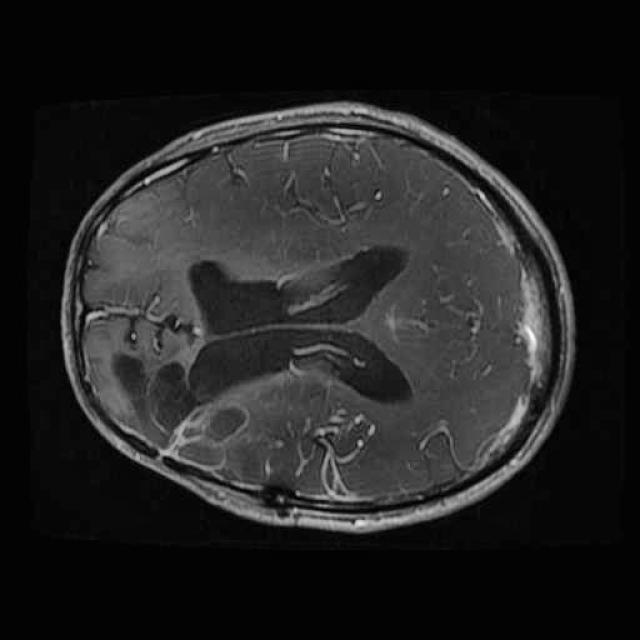Tumor: (91, 341, 263, 495)
